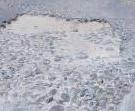alligator-crack: (4, 65, 135, 111)
pothole: (2, 10, 112, 39), (49, 40, 126, 59)
